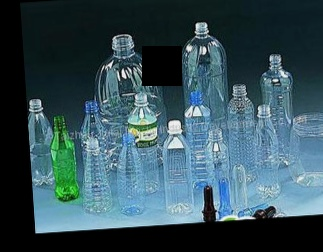bottle: (45, 114, 80, 210), (113, 132, 149, 218), (164, 113, 190, 215), (254, 102, 279, 200)
